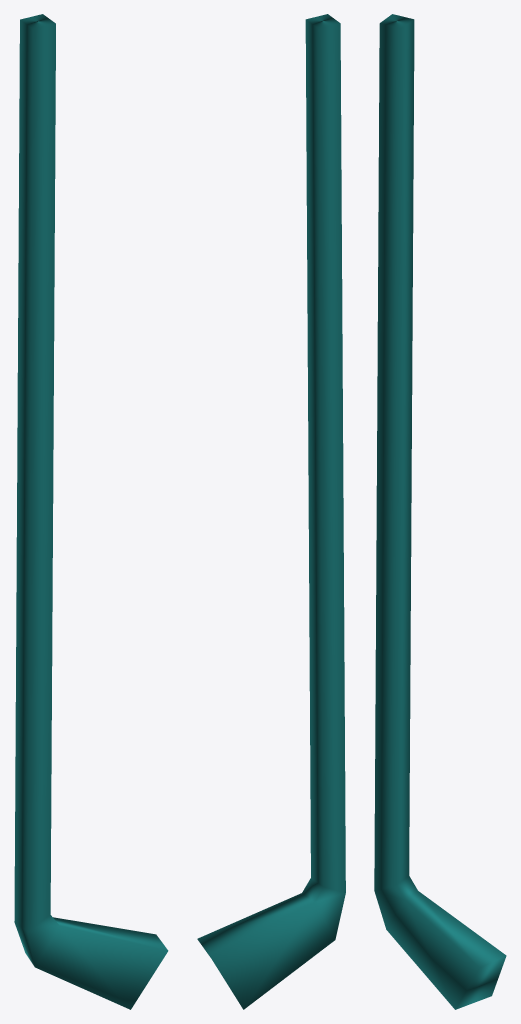
The model's file is golf_stick_collider.fbx.
3 views of the same model, side by side, from view 1: azimuth 30°, elevation 25°; view 2: azimuth 210°, elevation 25°; view 3: azimuth 330°, elevation 25° (orthographic). The views are drawn at different scales.
Visible parts, largest first — view 1: golf_stick_collider; view 2: golf_stick_collider; view 3: golf_stick_collider.
Part boxes in pixels (x1,y1,x2,y2): golf_stick_collider: (14, 14, 168, 1009); golf_stick_collider: (197, 14, 345, 1009); golf_stick_collider: (374, 14, 506, 1009).
Size of the model in its own units: 12.54 by 89.76 by 5.77.
